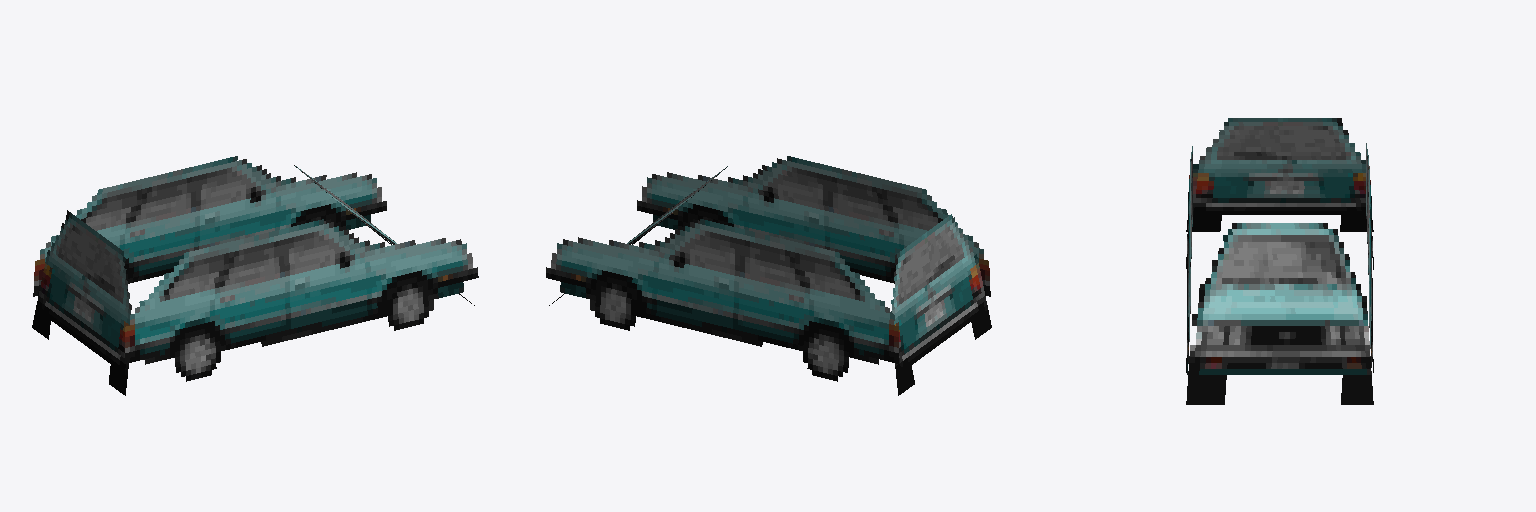
3 views of the same model, side by side, from view 1: azimuth 30°, elevation 25°; view 2: azimuth 150°, elevation 25°; view 3: azimuth 270°, elevation 25° (orthographic).
Size of the model in its own units: 576 by 195 by 264.
1 materials, 1 textured.